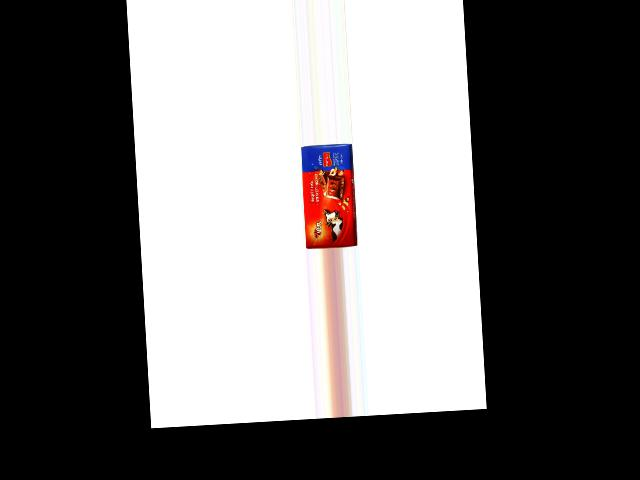chocolate: (300, 143, 357, 249)
